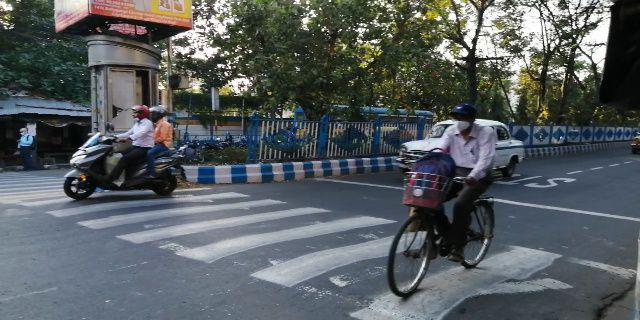Car: (395, 117, 525, 186)
Cycle: (376, 103, 500, 300)
Motorbike: (62, 105, 184, 203)
